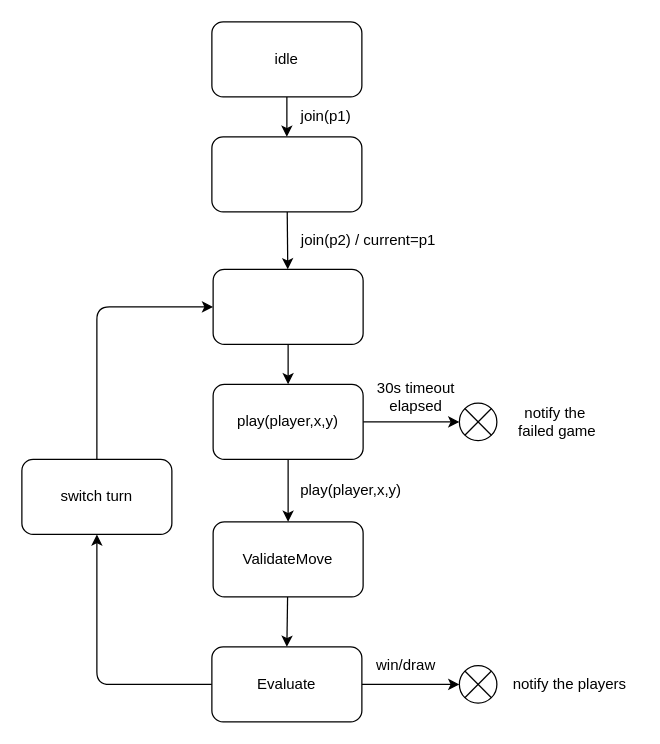
Image size: 660x744. Some labels were removed from this diagram. The centre of each missing label's shape, as x and y in pixels:
NotifyTurn(current): the point at 287,306
Wait p2: the point at 286,174
